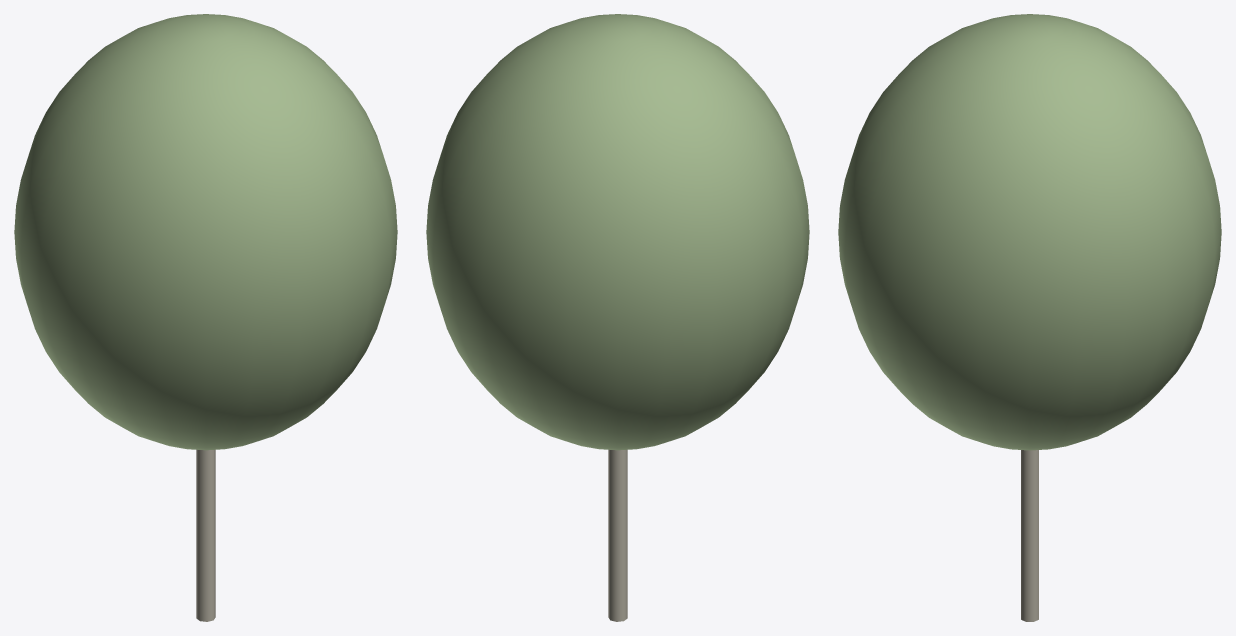
Rendered from TiliaAmericana.glb.
3 views of the same model, side by side, from view 1: azimuth 30°, elevation 25°; view 2: azimuth 150°, elevation 25°; view 3: azimuth 270°, elevation 25° (orthographic).
Visible parts, largest first — view 1: Basswood__Schematic_LOD3; view 2: Basswood__Schematic_LOD3; view 3: Basswood__Schematic_LOD3.
Part boxes in pixels (<box>): Basswood__Schematic_LOD3: <box>14,14,397,621</box>; Basswood__Schematic_LOD3: <box>426,14,809,621</box>; Basswood__Schematic_LOD3: <box>838,14,1221,621</box>.
Bounding box in the file's own units: 17.84 × 30.22 × 17.84.
